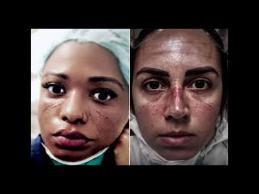mask_weared_incorrect: (137, 63, 221, 165), (41, 72, 118, 164)
